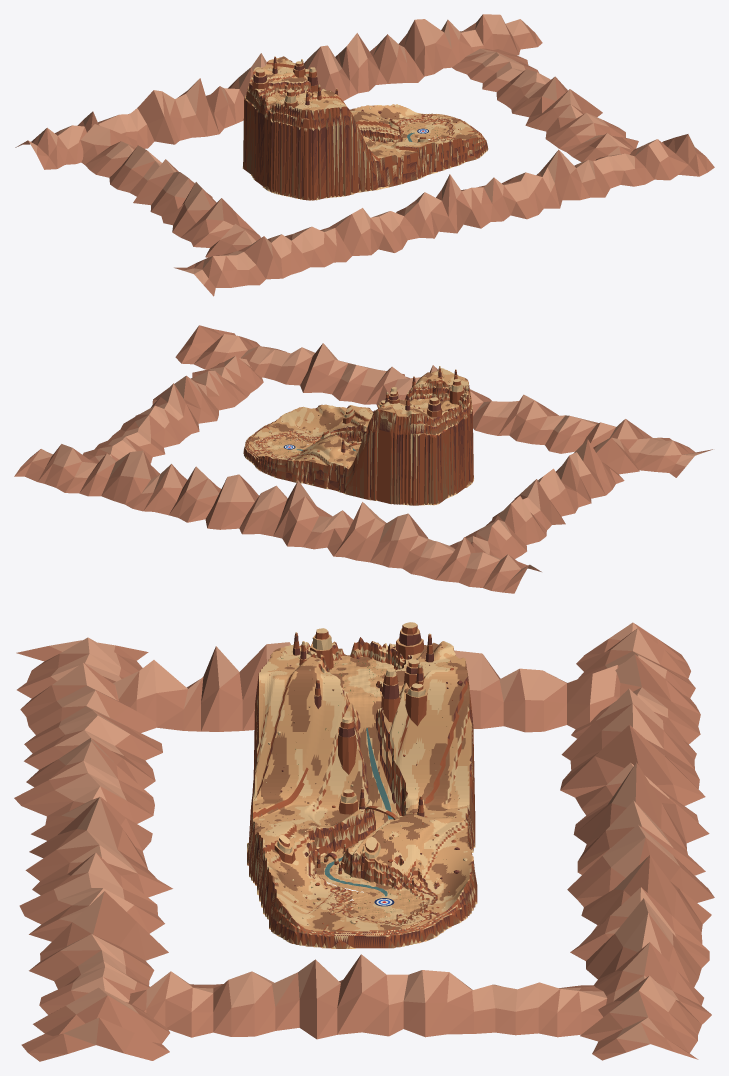
File: skydrop_canyon.glb
3 views of the same model, one above another, from view 1: azimuth 30°, elevation 25°; view 2: azimuth 150°, elevation 25°; view 3: azimuth 270°, elevation 25° (orthographic). The views are drawn at different scales.
Visible parts, largest first — view 1: Mountains_South, Desert_Ground, Mountains_North, Mountains_West, Mountains_East, Left_Walls; view 2: Mountains_North, Desert_Ground, Mountains_South, Mountains_West, Mountains_East, Right_Walls, Canyon_Floor, Left_Walls; view 3: Mountains_South, Mountains_North, Desert_Ground, Mountains_East, Mountains_West, Left_Walls, Canyon_Floor, Right_Walls, Landing_Basin, Gate_Tower_R, Gate_Tower_L, River_Main (+2 smaller).
Part boxes in pixels (bbox=[...]): Mountains_South: bbox=[174, 134, 714, 296]; Desert_Ground: bbox=[242, 56, 488, 200]; Mountains_North: bbox=[15, 14, 542, 169]; Mountains_West: bbox=[80, 124, 260, 257]; Mountains_East: bbox=[452, 48, 638, 162]; Left_Walls: bbox=[257, 80, 450, 142]; Mountains_North: bbox=[14, 444, 541, 593]; Desert_Ground: bbox=[243, 368, 473, 505]; Mountains_South: bbox=[175, 325, 712, 477]; Mountains_West: bbox=[449, 437, 639, 558]; Mountains_East: bbox=[82, 356, 263, 463]; Right_Walls: bbox=[254, 379, 466, 444]; Canyon_Floor: bbox=[292, 399, 458, 452]; Left_Walls: bbox=[250, 400, 456, 459]; Mountains_South: bbox=[14, 637, 172, 1061]; Mountains_North: bbox=[560, 622, 714, 1060]; Desert_Ground: bbox=[247, 637, 477, 948]; Mountains_East: bbox=[128, 954, 607, 1039]; Mountains_West: bbox=[113, 642, 620, 732]; Left_Walls: bbox=[341, 641, 452, 926]; Canyon_Floor: bbox=[314, 657, 399, 899]; Right_Walls: bbox=[299, 643, 397, 926]; Landing_Basin: bbox=[350, 889, 417, 917]; Gate_Tower_R: bbox=[338, 716, 357, 774]; Gate_Tower_L: bbox=[381, 668, 400, 722]; River_Main: bbox=[324, 728, 393, 896].
Size of what is drawn, in the model's own units: 6831 by 1341 by 4939.
